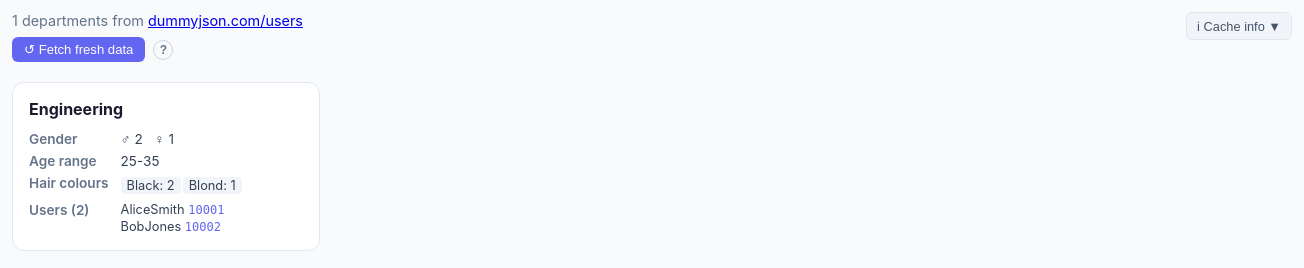
Scenario: UsersPage › closes tooltip when ✕ is clicked
This screenshot has width=1304, height=268.
Expected: the heading "Engineering" is shown, [29, 99, 123, 119]
Click the button named "What does this do?" at (163, 50), box [153, 40, 173, 60]
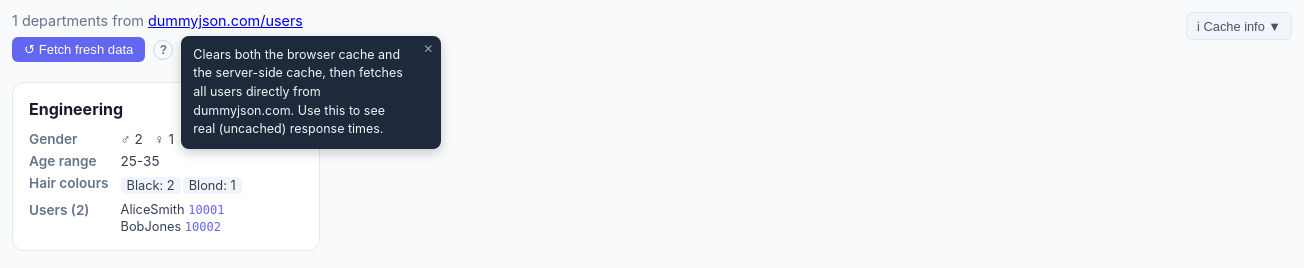
Click the button "✕" at (428, 48), box [423, 42, 433, 56]
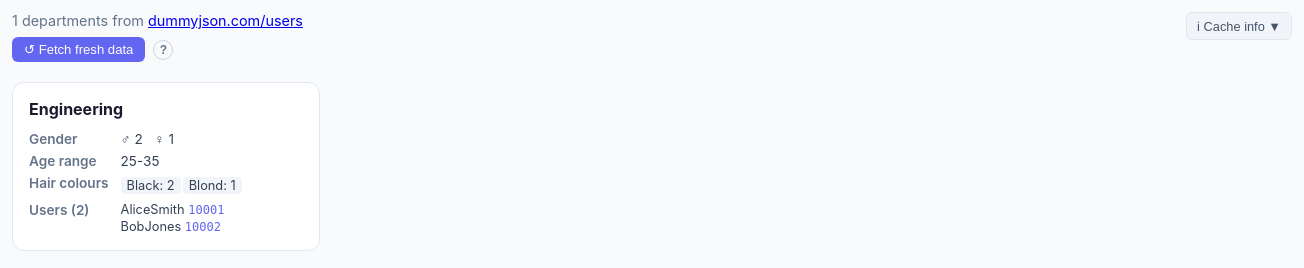
Now the text "Clears both" is gone
